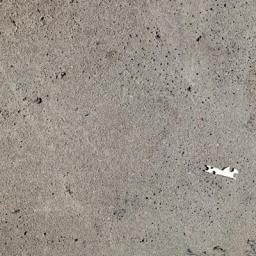FOD: (204, 161, 241, 184)
